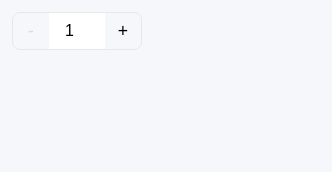
Test: QuantityInput › increases the quantity when + is clicked
The width and height of the screenshot is (332, 172).
What coordinates should you click on to do the following:
click the button named "increase quantity"
I would click on:
 (123, 31)
Its box is left=105, top=13, right=141, bottom=49.
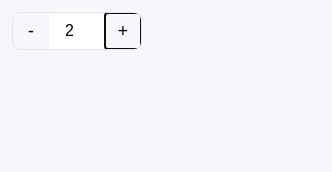
Now the number field named "Quantity" holds "2", box left=49, top=13, right=105, bottom=49
